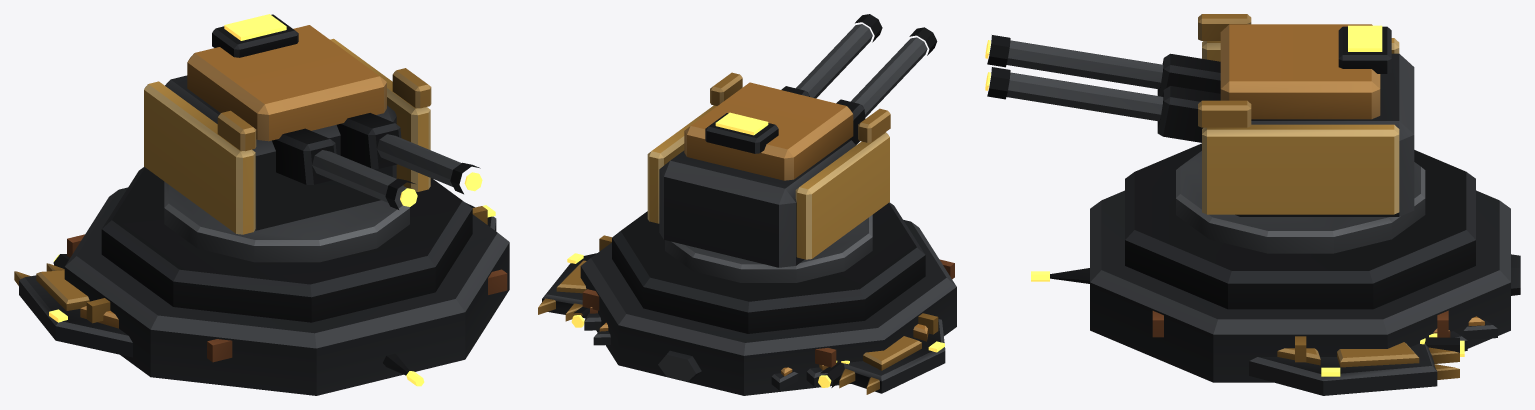
Rendered from khepri-craft.glb.
The picture shows the model from 3 angles, left to right: view 1: azimuth 30°, elevation 25°; view 2: azimuth 150°, elevation 25°; view 3: azimuth 270°, elevation 25°; orthographic projection. The views are drawn at different scales.
Parts seen in each view (by area): view 1: khepri_turret, khepri_weaver, khepri_lancer; view 2: khepri_turret, khepri_weaver, khepri_lancer, khepri_dart; view 3: khepri_turret, khepri_weaver, khepri_lancer, khepri_dart.
Part boxes in pixels (x1,y1,x2,y2): khepri_turret: [64, 14, 509, 395]; khepri_weaver: [14, 202, 496, 357]; khepri_lancer: [383, 353, 424, 386]; khepri_turret: [580, 14, 956, 395]; khepri_weaver: [538, 253, 945, 394]; khepri_lancer: [593, 322, 798, 390]; khepri_dart: [571, 306, 844, 387]; khepri_turret: [985, 14, 1510, 382]; khepri_weaver: [1249, 338, 1459, 395]; khepri_lancer: [1031, 254, 1520, 339]; khepri_dart: [1425, 328, 1467, 356].
Size of the model in its own units: 1.36 by 0.771 by 1.41.
